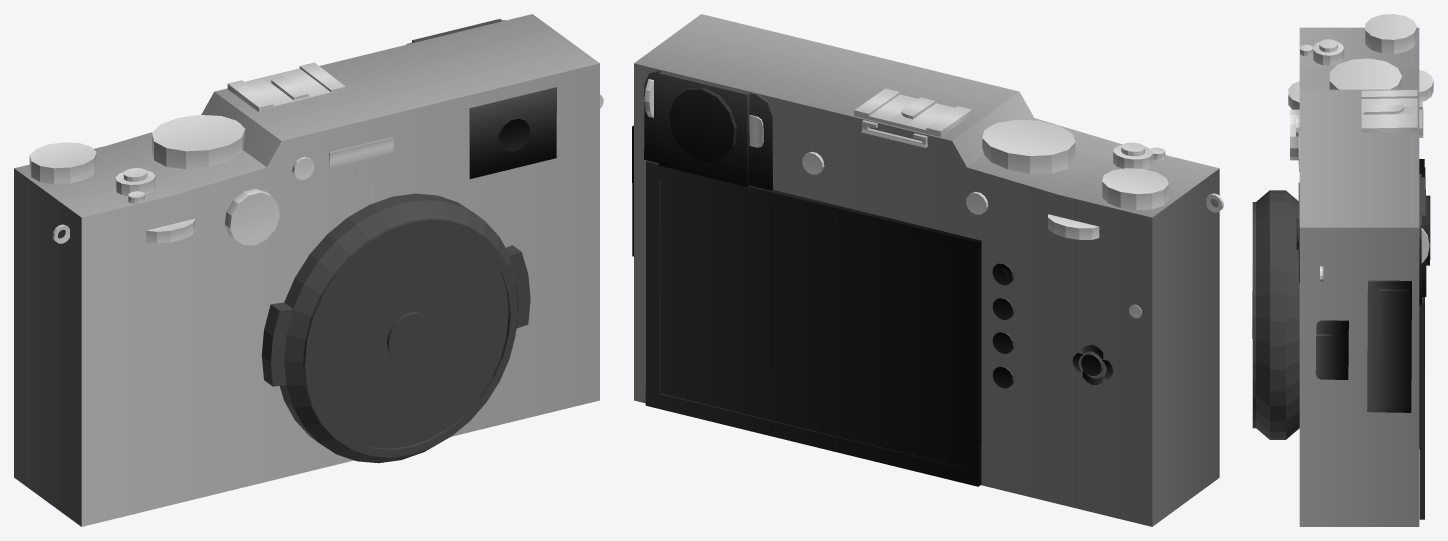
The model's file is SM_Int_Camera.fbx.
The picture shows the model from 3 angles, left to right: view 1: azimuth 30°, elevation 25°; view 2: azimuth 150°, elevation 25°; view 3: azimuth 270°, elevation 25°; orthographic projection. The views are drawn at different scales.
Visible parts, largest first — view 1: SM_Int_Camera; view 2: SM_Int_Camera; view 3: SM_Int_Camera.
Boxes of the visible parts, x1,y1,x2,y2 form: SM_Int_Camera: [14, 14, 603, 526]; SM_Int_Camera: [632, 14, 1223, 526]; SM_Int_Camera: [1252, 14, 1433, 526].
Size of the model in its own units: 134 by 80 by 43.08.
